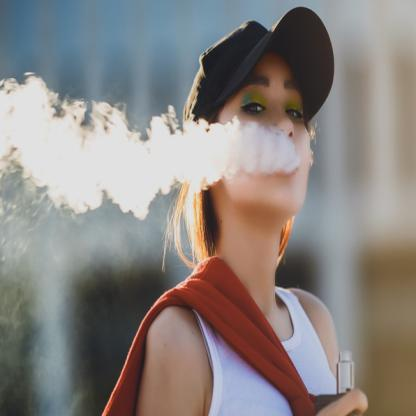smoke: (0, 87, 109, 220), (103, 112, 212, 210), (210, 121, 284, 183)
